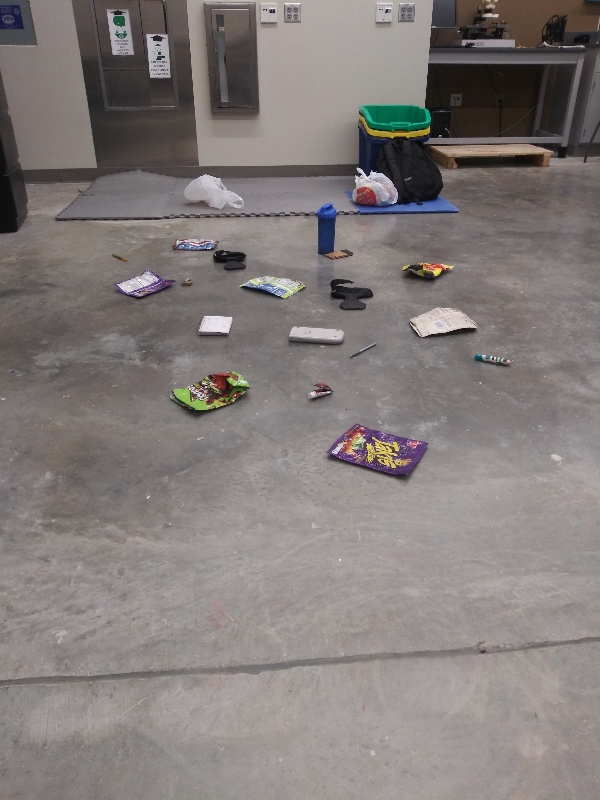bag: (327, 418, 433, 482), (168, 367, 255, 416), (407, 306, 482, 340), (112, 268, 176, 303), (236, 275, 310, 301), (400, 256, 455, 283), (168, 236, 221, 253)
